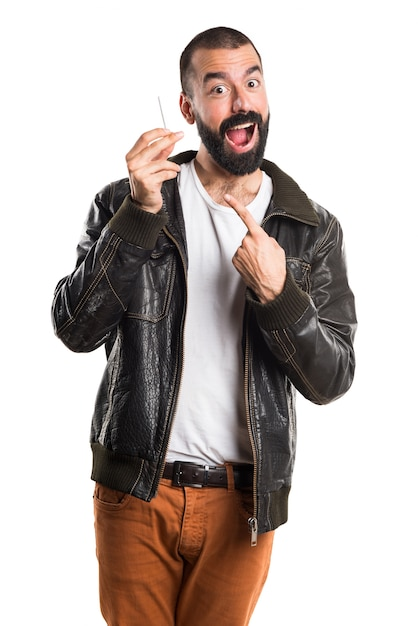cigarette: (156, 95, 170, 133)
